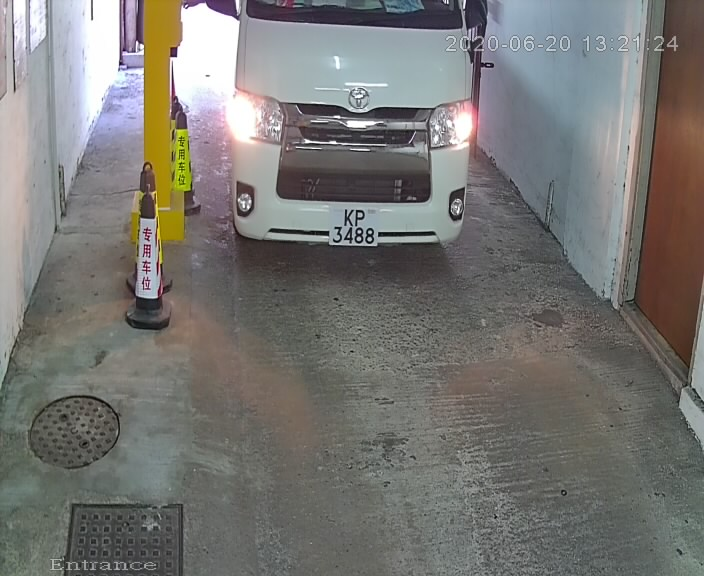privatecar: (220, 3, 487, 290)
